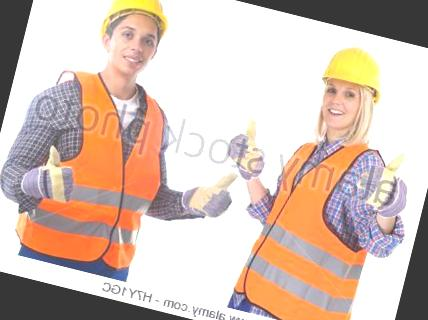helmet: (314, 38, 395, 102), (93, 0, 180, 40)
person: (223, 28, 428, 320), (1, 0, 209, 281)
